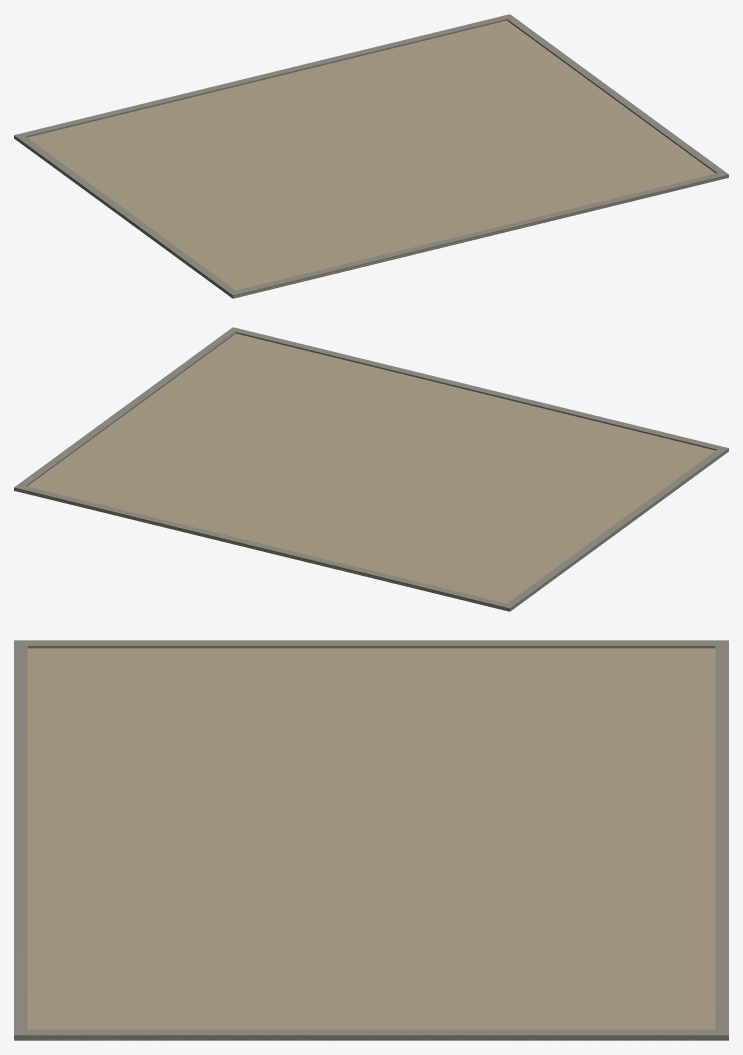
The model's file is colonial_plaza_lod0.glb.
3 views of the same model, one above another, from view 1: azimuth 30°, elevation 25°; view 2: azimuth 150°, elevation 25°; view 3: azimuth 270°, elevation 25° (orthographic). The views are drawn at different scales.
Visible parts, largest first — view 1: GEO-Arch_colonial_plaza_LOD0; view 2: GEO-Arch_colonial_plaza_LOD0; view 3: GEO-Arch_colonial_plaza_LOD0.
Boxes of the visible parts, <box> form: GEO-Arch_colonial_plaza_LOD0: <box>14,14,728,298</box>; GEO-Arch_colonial_plaza_LOD0: <box>14,327,728,611</box>; GEO-Arch_colonial_plaza_LOD0: <box>14,640,728,1040</box>.
Size of the model in its own units: 34 by 0.22 by 26.
